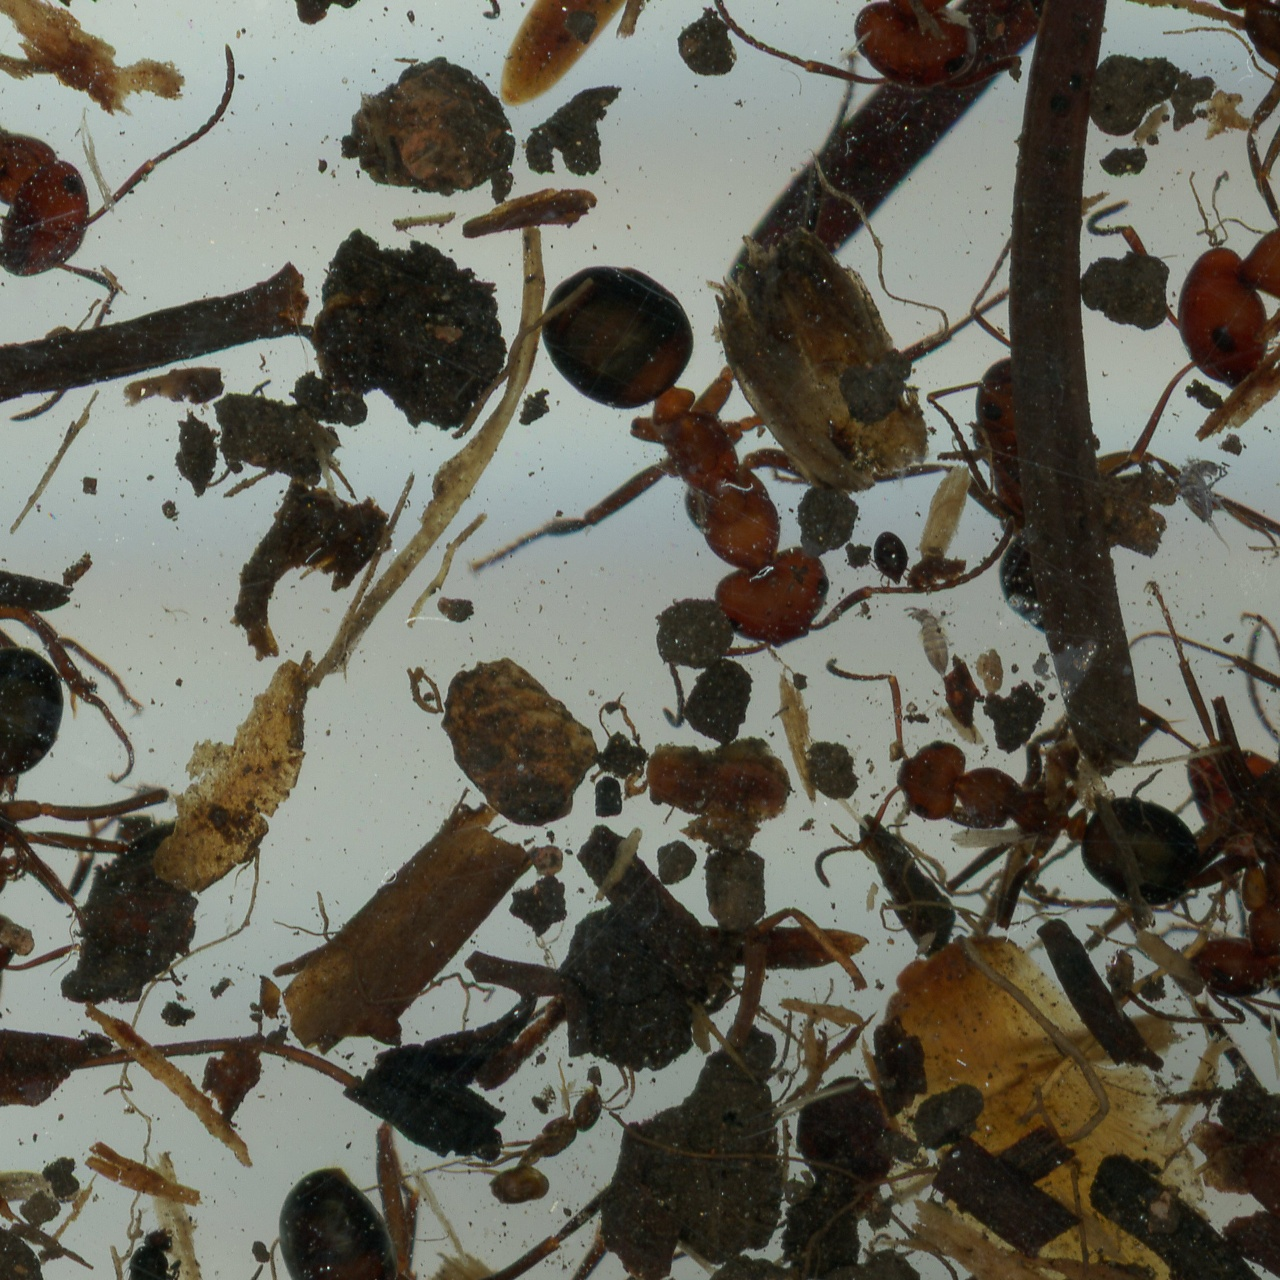arthropod: (359, 152, 993, 792), (851, 301, 1217, 697), (809, 649, 1232, 934), (0, 0, 243, 431), (1112, 626, 1280, 1102), (1096, 646, 1280, 1063), (1103, 179, 1280, 586), (0, 360, 150, 826), (0, 621, 175, 993), (784, 0, 1280, 130), (416, 1012, 651, 1255), (267, 1155, 642, 1280), (1109, 0, 1280, 205), (223, 0, 647, 60), (1172, 454, 1235, 561), (900, 604, 964, 681), (116, 1217, 192, 1280), (865, 529, 917, 595)
